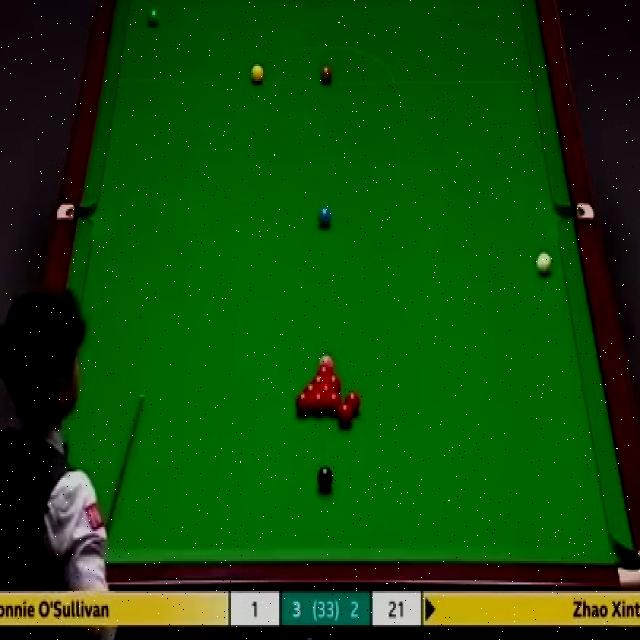black-ball: (317, 466, 333, 495)
blue-ball: (316, 205, 332, 231)
brown-ball: (318, 62, 332, 86)
green-ball: (146, 7, 160, 28)
pink-ball: (319, 352, 334, 368)
red-ball: (346, 390, 362, 417), (338, 401, 353, 427), (326, 391, 341, 417), (310, 391, 325, 416), (296, 392, 310, 417), (327, 374, 342, 390), (310, 372, 328, 384), (318, 382, 336, 392), (317, 366, 334, 376), (304, 381, 318, 392)
white-ball: (535, 249, 553, 279)
yellow-ball: (250, 61, 265, 86)
